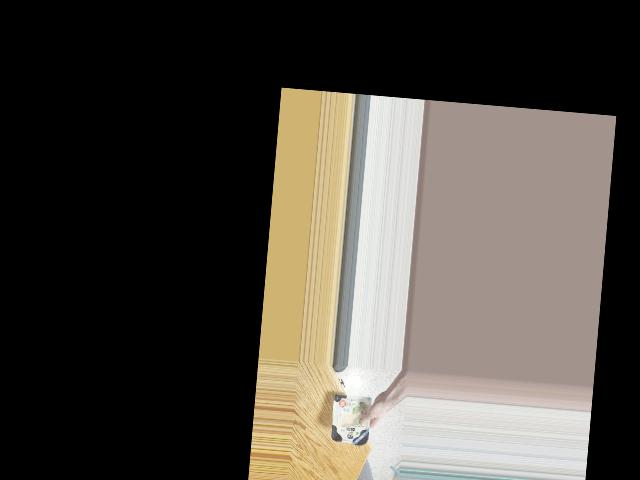cheese: (330, 391, 375, 446)
